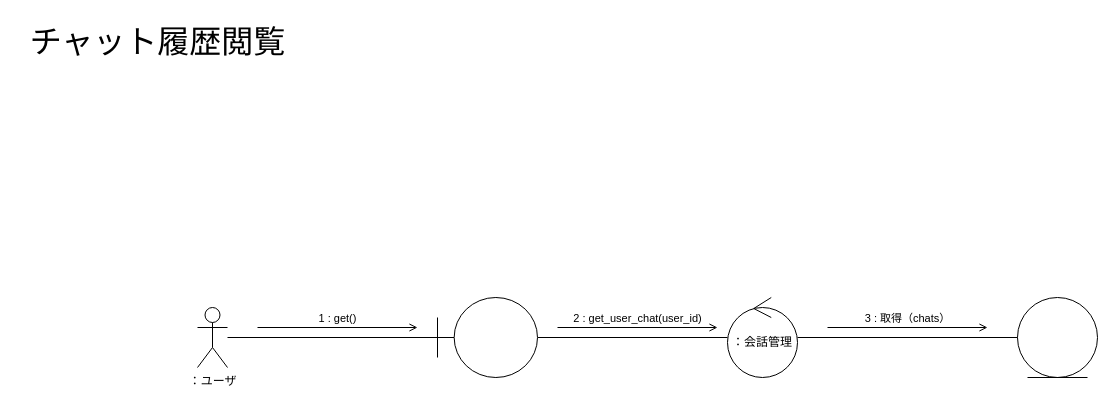
This 1115x405 diagram has some shape labels left out. The centre of each missing label's shape, as x and y in pixels:
: チャット ページ: [487,337]
：チャット: [1057,337]
